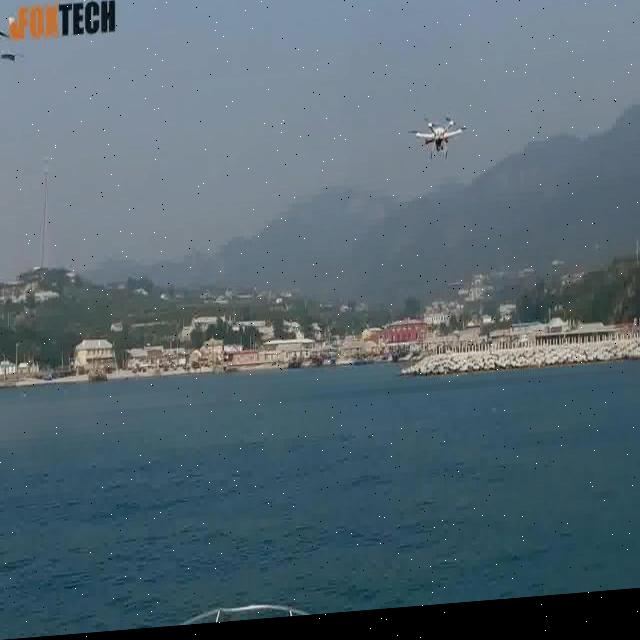drone: (408, 116, 468, 175)
